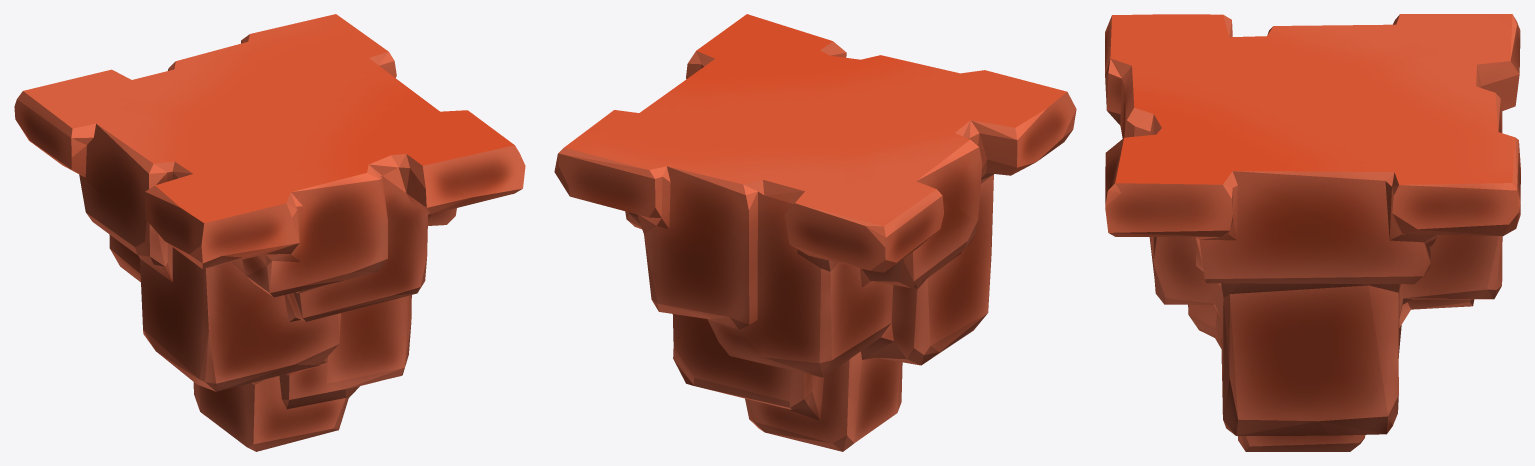
Rendered from Platform_3_3.fbx.
The picture shows the model from 3 angles, left to right: view 1: azimuth 30°, elevation 25°; view 2: azimuth 150°, elevation 25°; view 3: azimuth 270°, elevation 25°; orthographic projection. The views are drawn at different scales.
Visible parts, largest first — view 1: Cube.075; view 2: Cube.075; view 3: Cube.075.
Part boxes in pixels (x1,y1,x2,y2): Cube.075: (14,14,525,451); Cube.075: (554,14,1076,451); Cube.075: (1105,14,1520,451).
Bounding box in the file's own units: 300 × 265 × 300.
